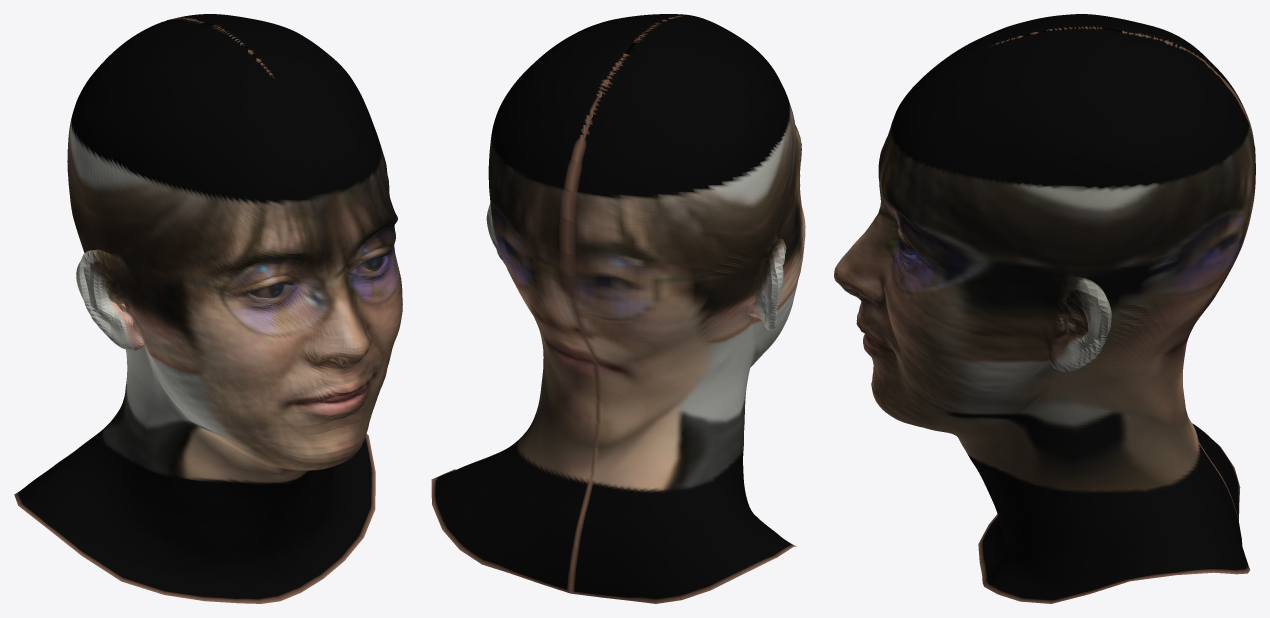
File: mesh_coarse_detail.obj
3 renders of one model, left to right at view 1: azimuth 30°, elevation 25°; view 2: azimuth 150°, elevation 25°; view 3: azimuth 270°, elevation 25°, orthographic. The views are drawn at different scales.
Size of the model in its own units: 0.2126 by 0.3215 by 0.2254.
